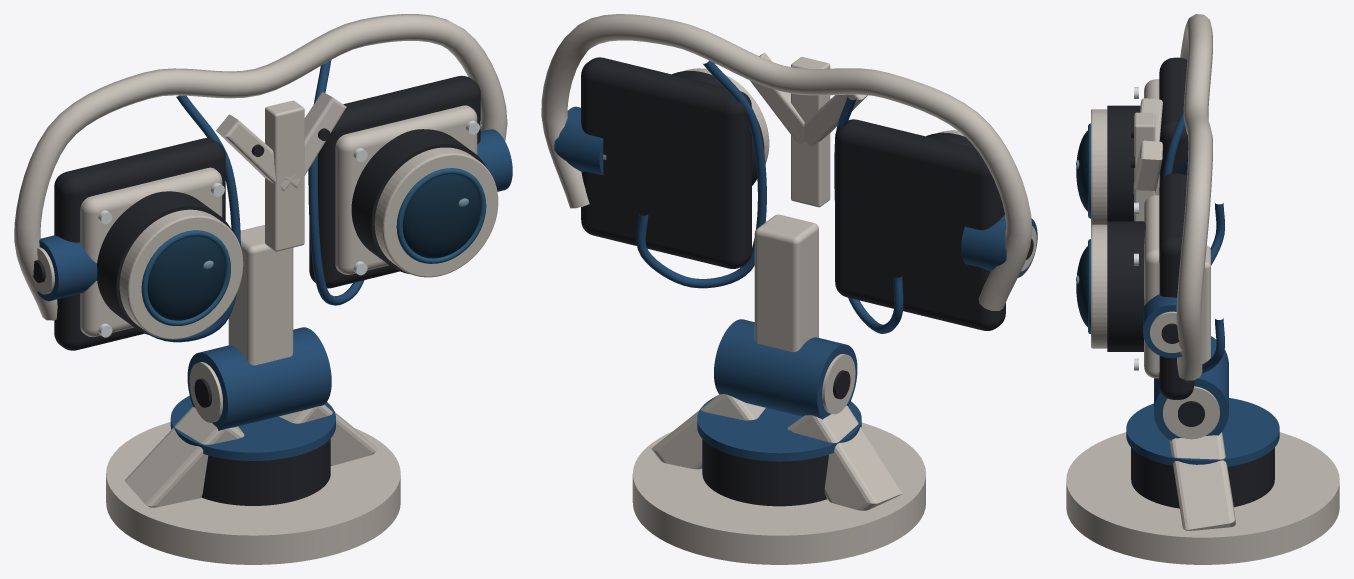
File: anatomy-02.glb
The picture shows the model from 3 angles, left to right: view 1: azimuth 30°, elevation 25°; view 2: azimuth 150°, elevation 25°; view 3: azimuth 270°, elevation 25°; orthographic projection. The views are drawn at different scales.
Visible parts, largest first — view 1: brackets, base, frame, right, left, yaw, pitch, crossbrace, drives, leads; view 2: brackets, frame, base, yaw, pitch, crossbrace, leads, drives, right; view 3: base, frame, brackets, yaw, right, left, pitch, crossbrace, drives, leads.
Part boxes in pixels (bbox=[...]): brackets: bbox=[54, 75, 480, 350]; base: bbox=[106, 404, 400, 564]; frame: bbox=[14, 14, 507, 365]; right: bbox=[351, 129, 498, 277]; left: bbox=[97, 191, 243, 339]; yaw: bbox=[170, 396, 335, 505]; pitch: bbox=[187, 327, 331, 430]; crossbrace: bbox=[216, 92, 346, 251]; drives: bbox=[33, 129, 512, 301]; leads: bbox=[150, 60, 364, 342]; brackets: bbox=[581, 57, 1005, 330]; frame: bbox=[541, 14, 1032, 352]; base: bbox=[632, 394, 925, 564]; yaw: bbox=[697, 396, 861, 506]; pitch: bbox=[714, 319, 857, 419]; crossbrace: bbox=[750, 52, 867, 207]; leads: bbox=[636, 60, 903, 333]; drives: bbox=[554, 106, 1037, 277]; right: bbox=[672, 68, 769, 185]; base: bbox=[1066, 432, 1339, 564]; frame: bbox=[1176, 14, 1212, 380]; brackets: bbox=[1134, 57, 1194, 399]; yaw: bbox=[1126, 398, 1279, 508]; right: bbox=[1076, 221, 1145, 351]; left: bbox=[1076, 105, 1140, 225]; pitch: bbox=[1154, 336, 1228, 440]; crossbrace: bbox=[1131, 98, 1162, 221]; drives: bbox=[1143, 294, 1182, 358]; leads: bbox=[1162, 110, 1224, 373].
Size of the model in its own units: 2.26 by 2.02 by 1.18.
